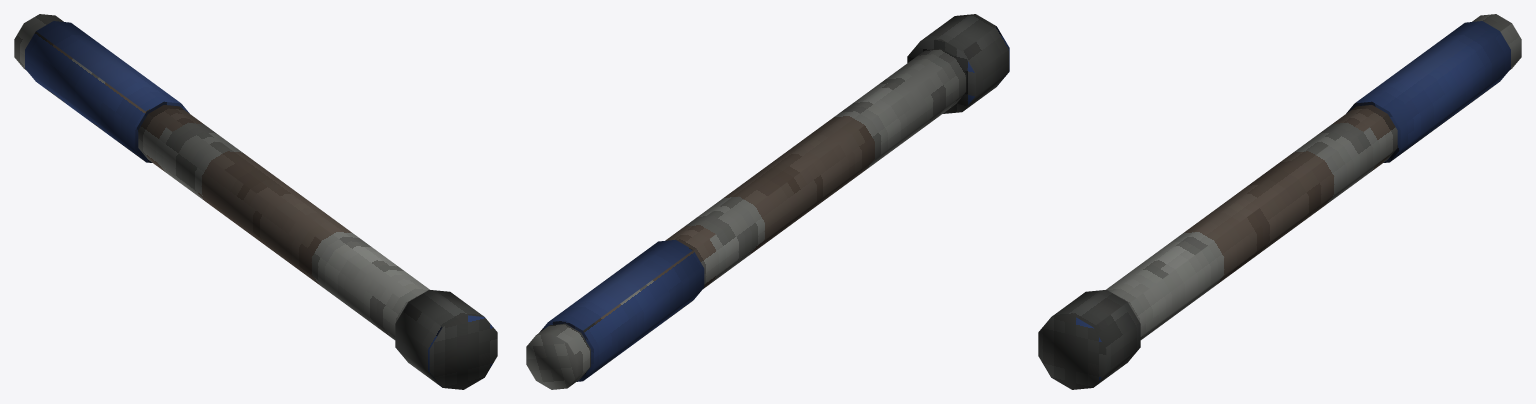
Rendered from pick_pipe.glb.
3 renders of one model, left to right at view 1: azimuth 30°, elevation 25°; view 2: azimuth 150°, elevation 25°; view 3: azimuth 330°, elevation 25°, orthographic.
Parts seen in each view (by area): view 1: pick_pipe; view 2: pick_pipe; view 3: pick_pipe.
Boxes of the visible parts, bbox=[...] form: pick_pipe: bbox=[14, 14, 497, 389]; pick_pipe: bbox=[526, 14, 1009, 389]; pick_pipe: bbox=[1038, 14, 1521, 389].
Bounding box in the file's own units: 0.0571 × 0.06 × 0.615.
1 material, 1 textured.
